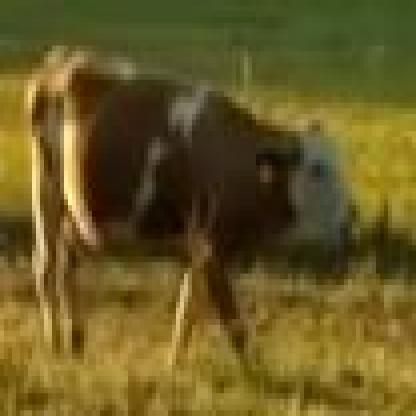cow: (26, 46, 358, 376)
